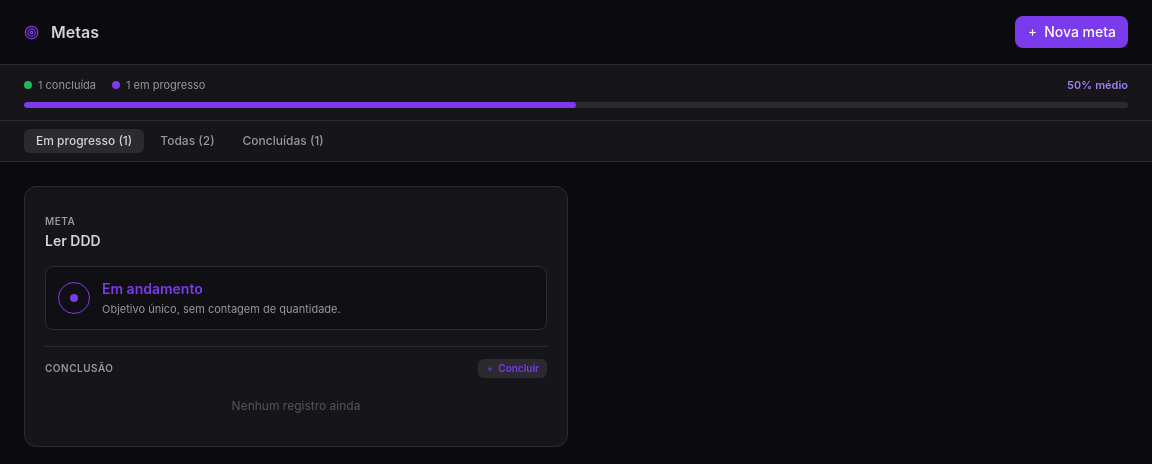
Scenario: GoalView › mostra os filtros na ordem em progresso, todas e concluídas e abre no primeiro
This screenshot has width=1152, height=464.
Expected: the heading "Ler DDD" is shown, left=45, top=230, right=101, bottom=250
Expected: the text "Curso concluído" is not shown
Click the button "Todas (2)": (187, 140) left=148, top=128, right=227, bottom=152
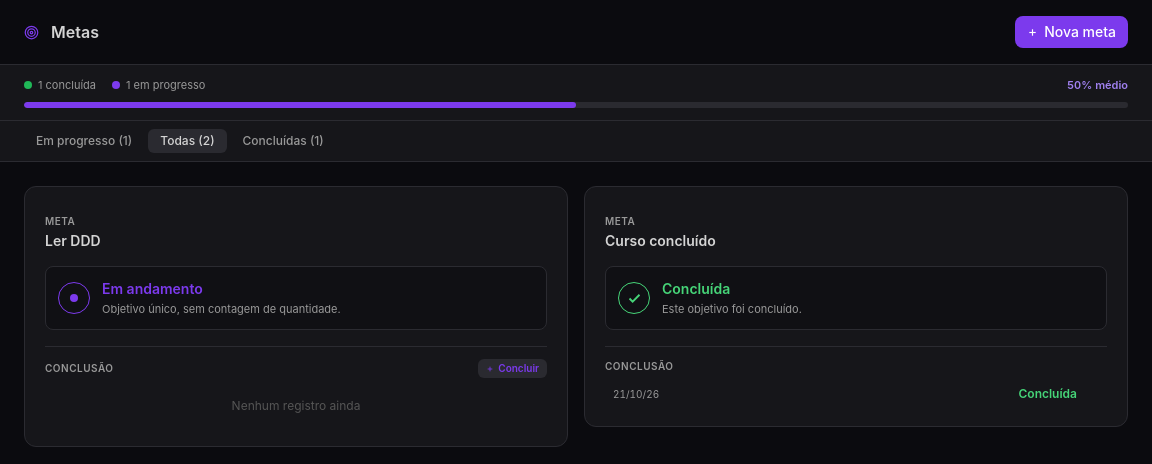
Result: the heading "Curso concluído" is shown at left=605, top=230, right=716, bottom=250
